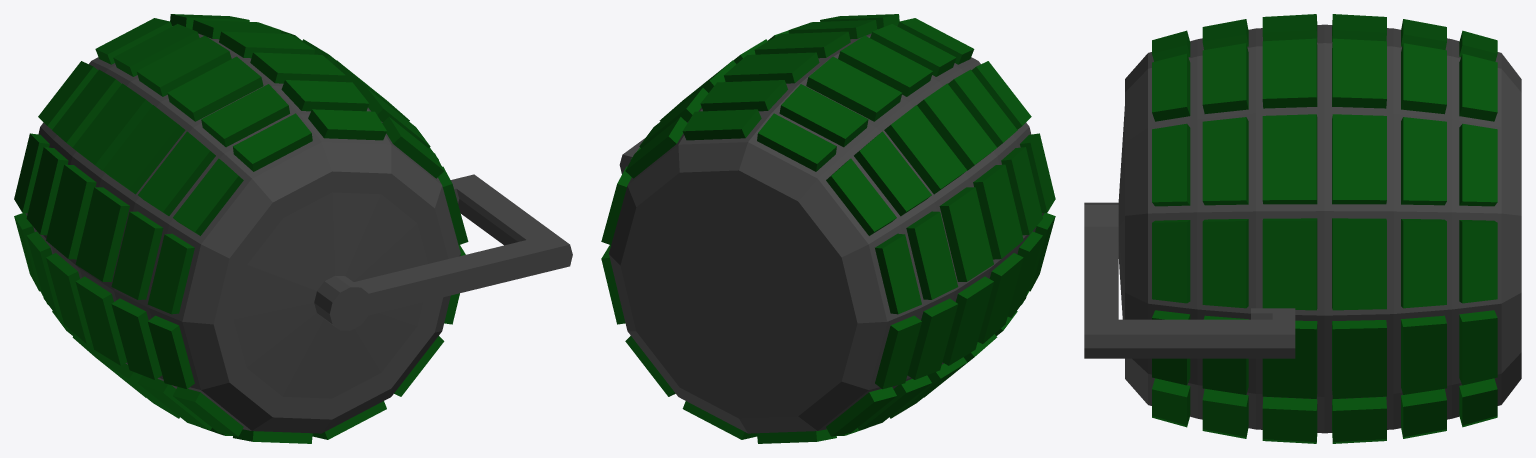
The model's file is GranadaP1.fbx.
3 renders of one model, left to right at view 1: azimuth 30°, elevation 25°; view 2: azimuth 150°, elevation 25°; view 3: azimuth 270°, elevation 25°, orthographic. The views are drawn at different scales.
Parts seen in each view (by area): view 1: Granada; view 2: Granada; view 3: Granada.
Part boxes in pixels (x1=…): Granada: x1=14, y1=14, x2=572, y2=443; Granada: x1=601, y1=14, x2=1055, y2=443; Granada: x1=1084, y1=14, x2=1521, y2=443.
Size of the model in its own units: 281 by 243 by 247.
